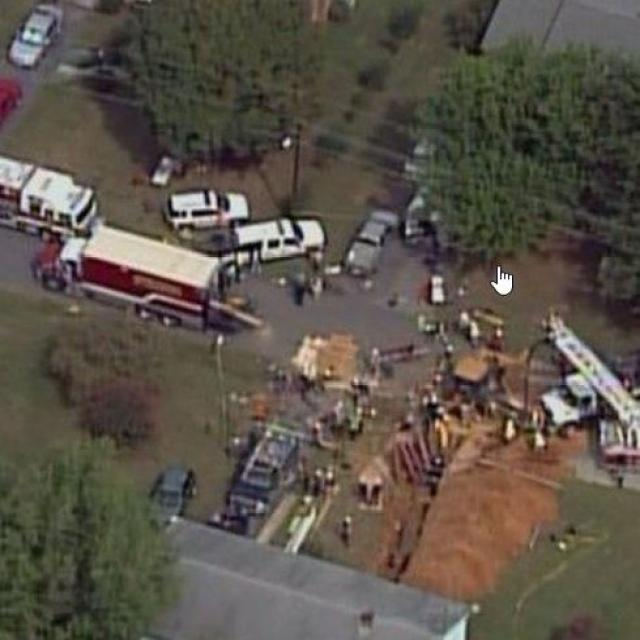traffic_incident: (240, 304, 520, 471)
